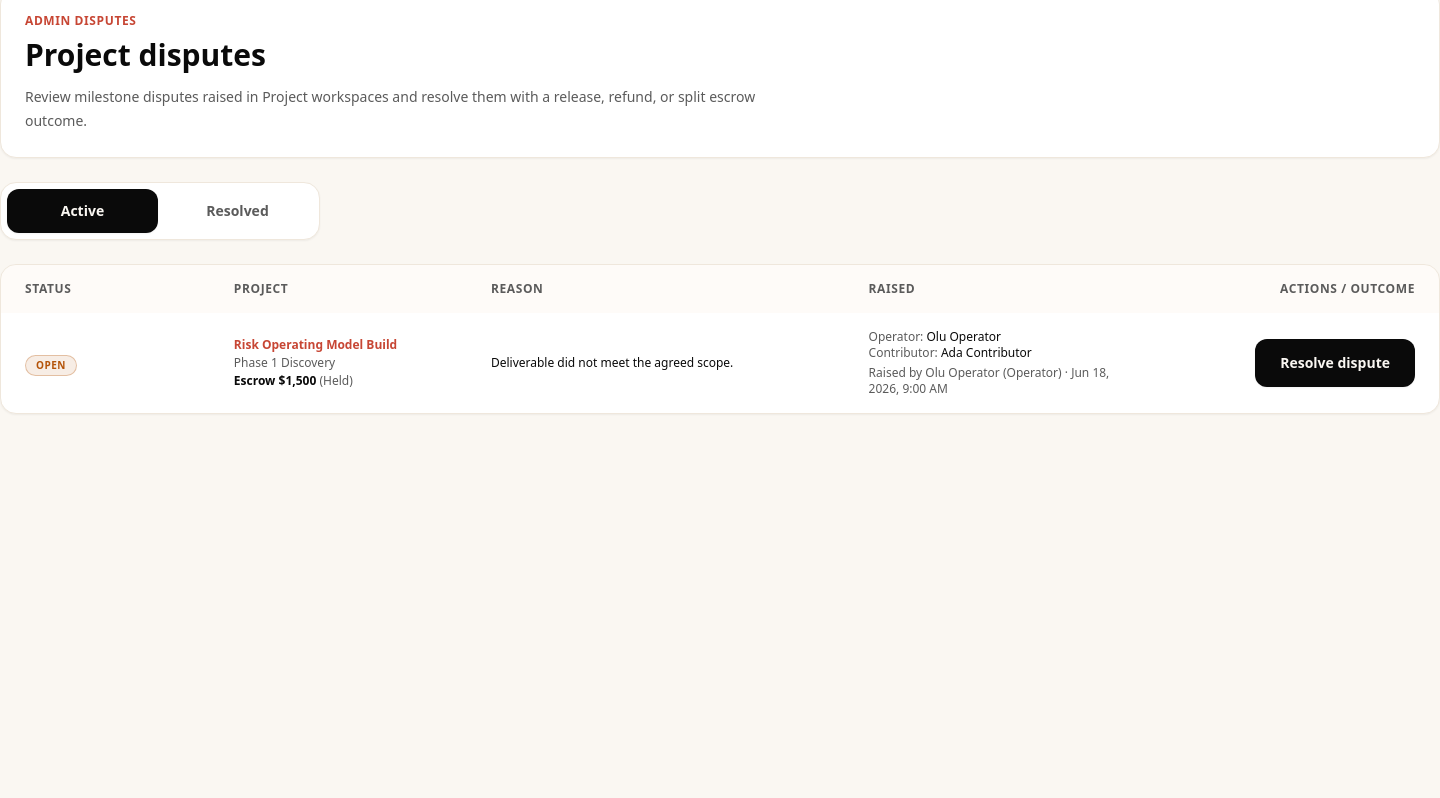
Test: AdminDisputesPanel › submits a release resolution and drops the dispute from the queue
Click the button "Resolve dispute" at (1335, 363), box [1255, 339, 1415, 387]
(page scrolled)
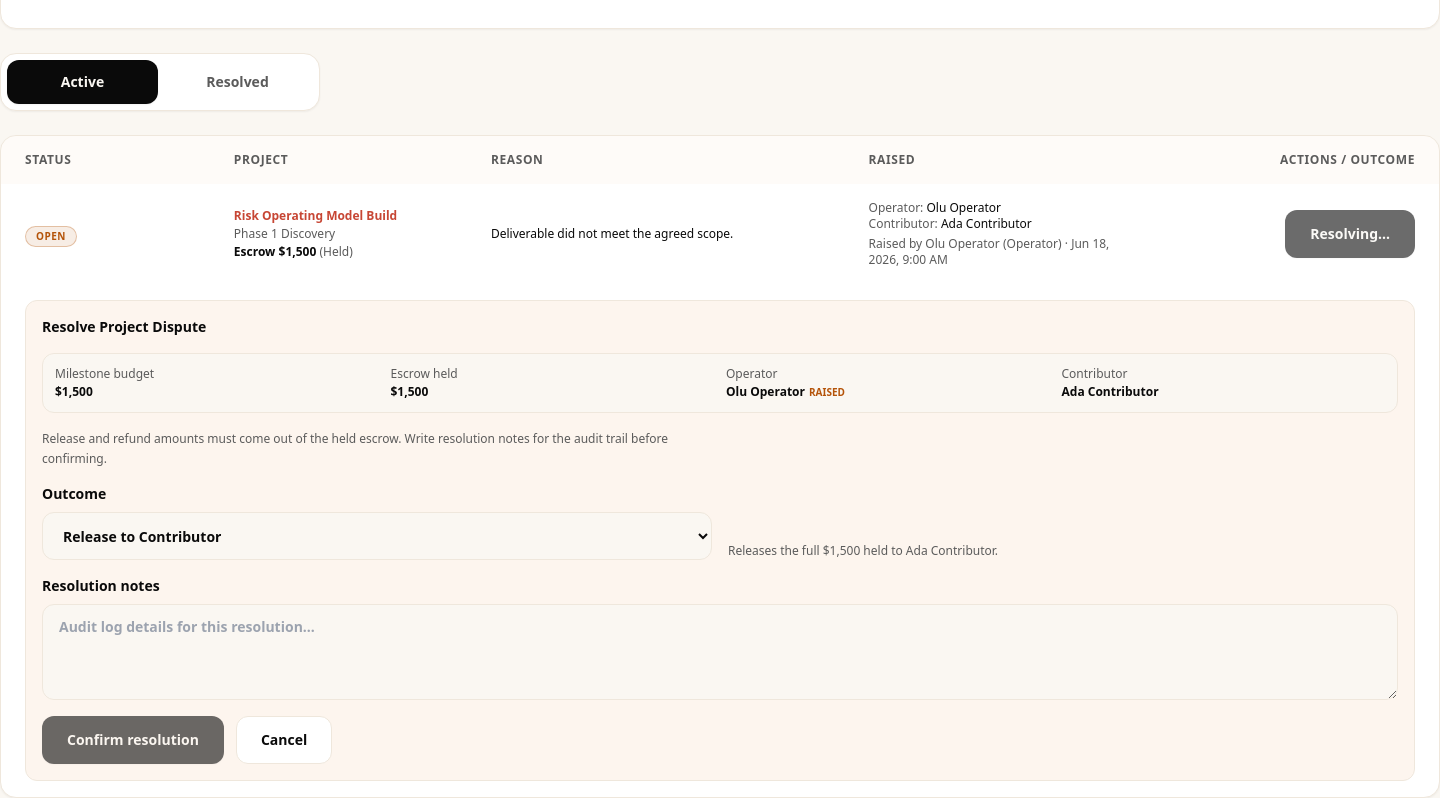
Type "Contributor delivered after mediation." into the text box with placeholder "Audit log details for this resolution..." at (720, 652), box [42, 604, 1398, 700]
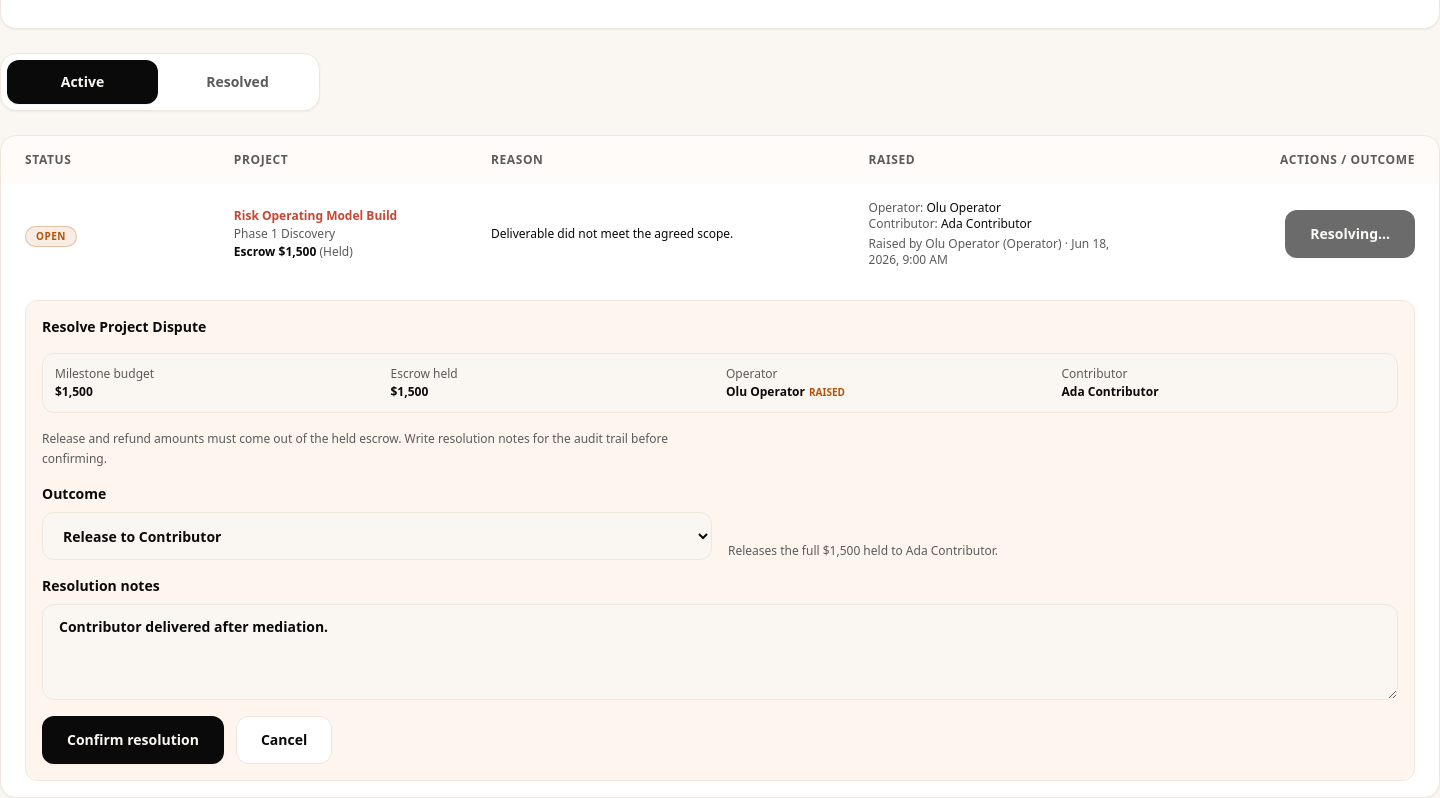
Click the button "Confirm resolution" at (133, 740), box [42, 716, 224, 764]
(page scrolled)
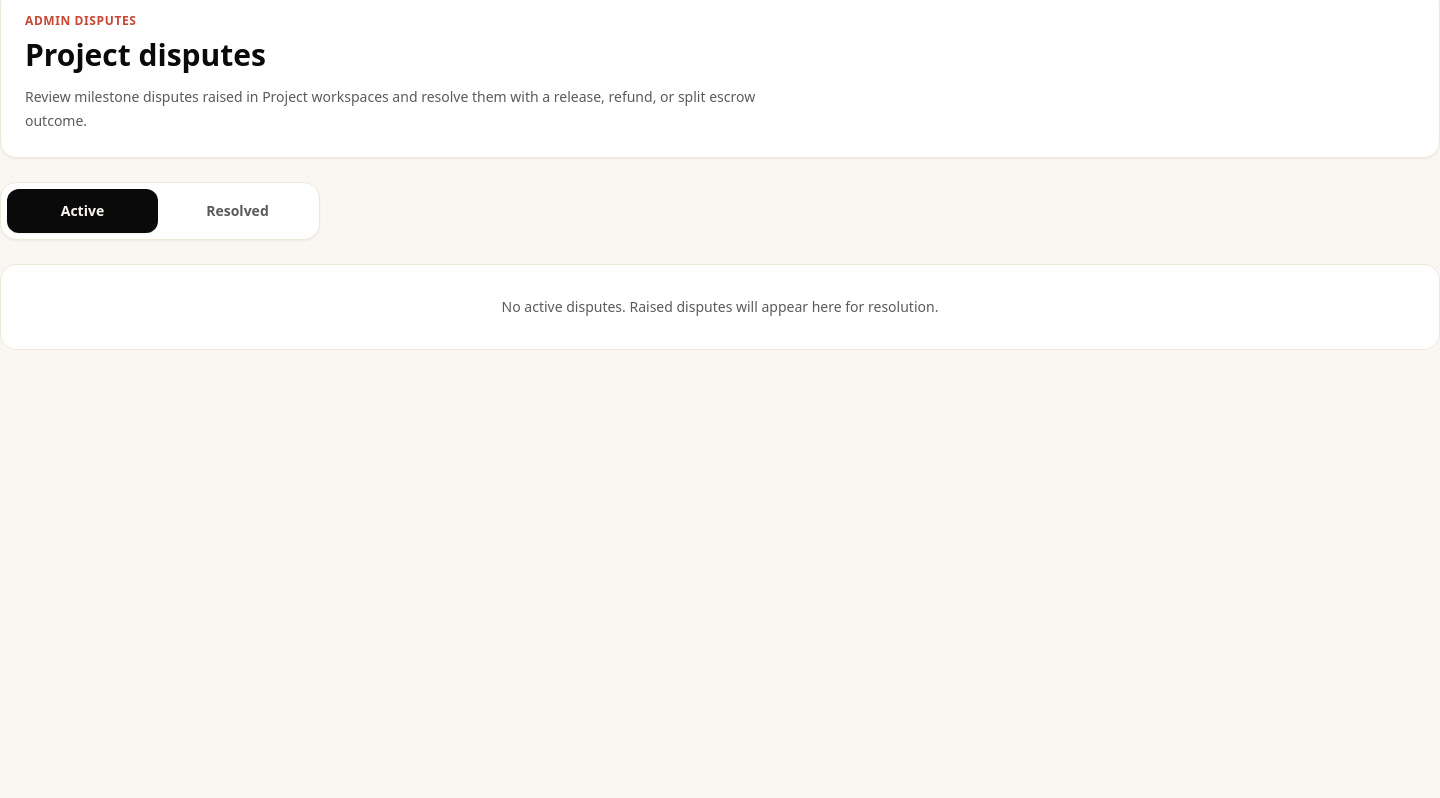
Now the link "Risk Operating Model Build" is gone
